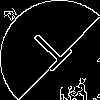T: (25, 25, 80, 79)
